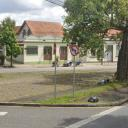NoVirarEsquerda: (70, 45, 79, 56)
Pare: (53, 43, 57, 55)
